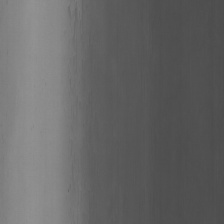inclusion: (66, 2, 101, 188)
